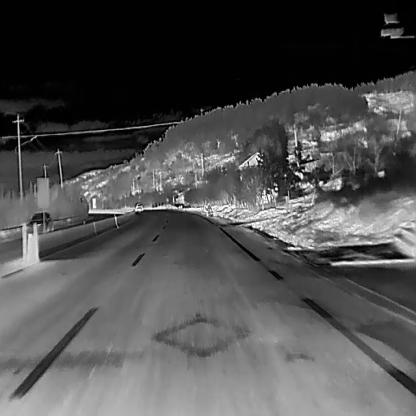car: (25, 210, 52, 236), (133, 200, 143, 212)
